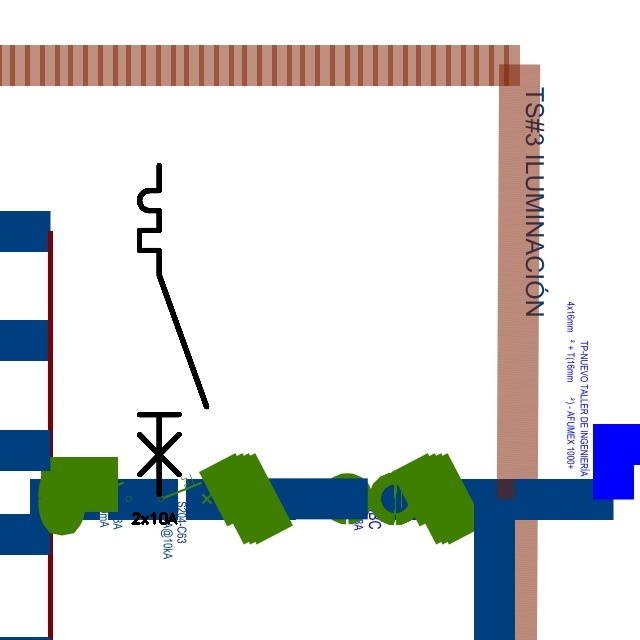interruptor_termomagnetico: (131, 157, 215, 503)
